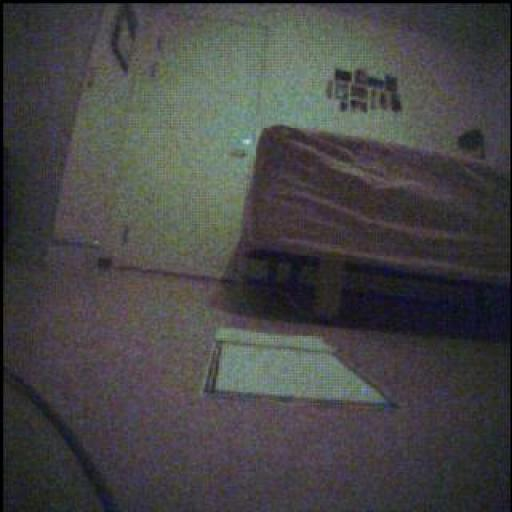pad: (206, 329, 395, 409), (215, 329, 334, 353)
